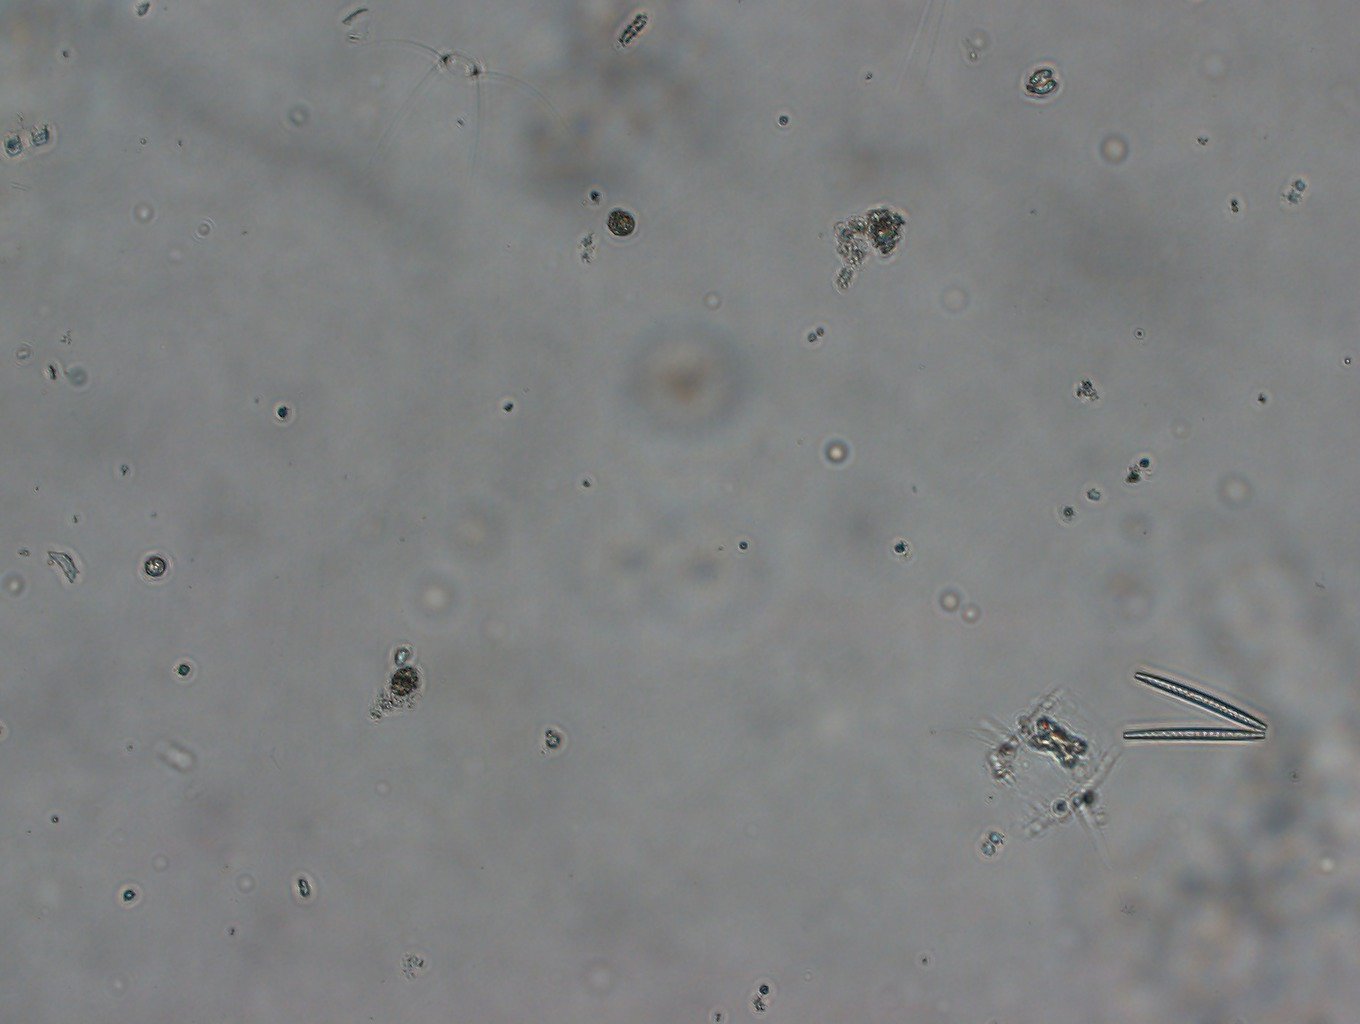thalassionema frauenfeldii: (1107, 664, 1280, 766)
